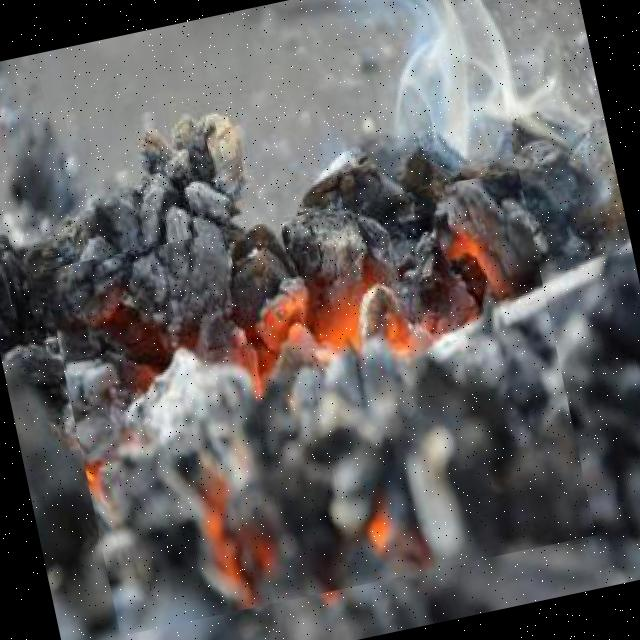fire: (42, 168, 596, 636)
